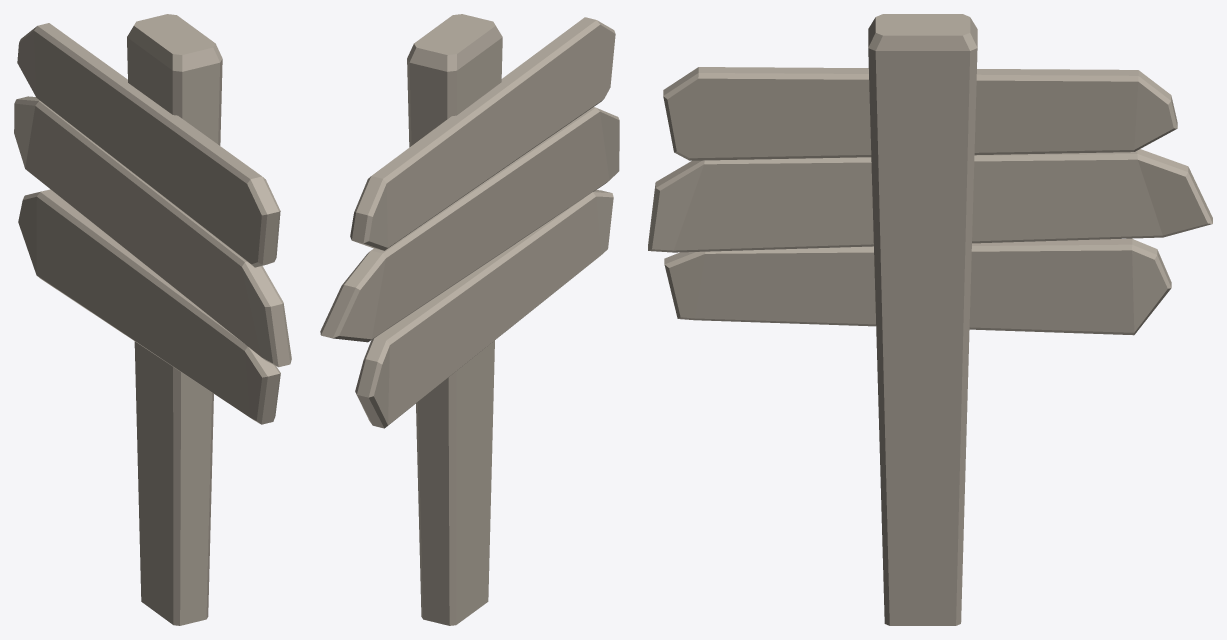
The model's file is sign.fbx.
The picture shows the model from 3 angles, left to right: view 1: azimuth 30°, elevation 25°; view 2: azimuth 150°, elevation 25°; view 3: azimuth 270°, elevation 25°; orthographic projection. The views are drawn at different scales.
Parts seen in each view (by area): view 1: Signpost; view 2: Signpost; view 3: Signpost.
Part boxes in pixels (box(x1,y1,x2,y2)): Signpost: box(14, 14, 291, 625); Signpost: box(320, 14, 619, 625); Signpost: box(648, 14, 1212, 625).
Size of the model in its own units: 38.06 by 323 by 279.
